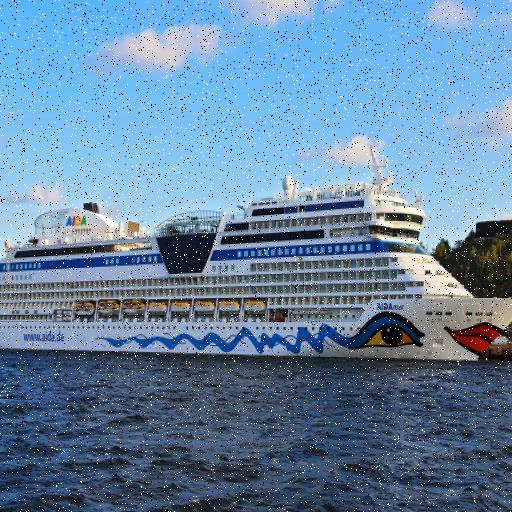cruises: (1, 144, 512, 370)
